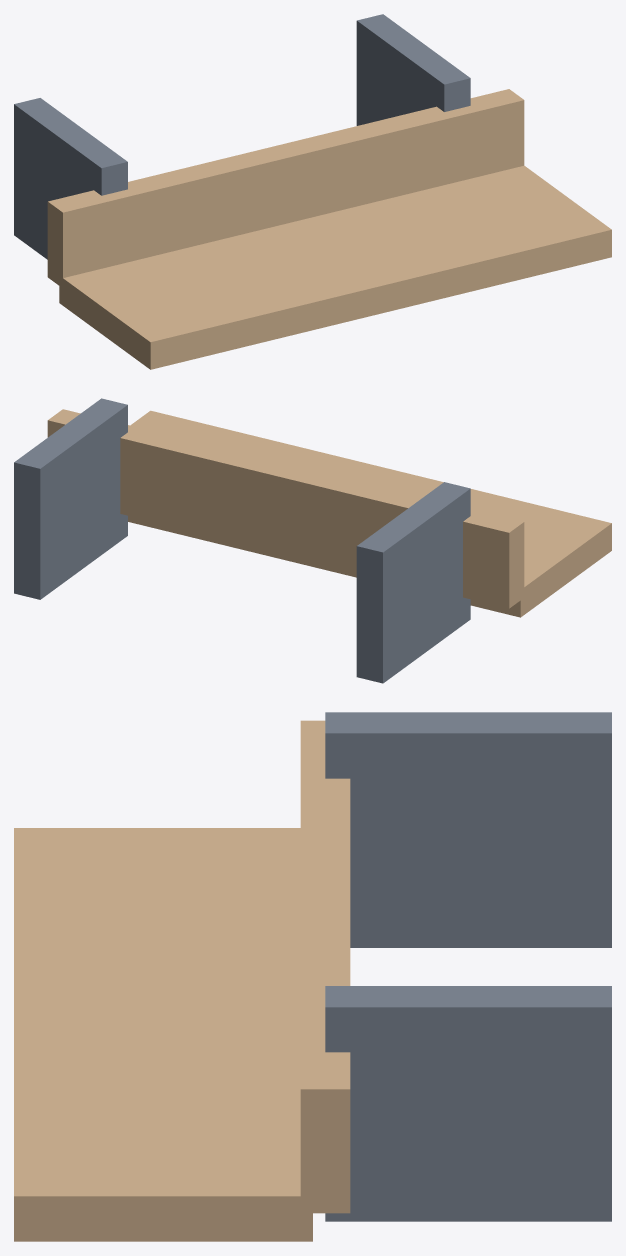
File: park_bench.glb
3 views of the same model, one above another, from view 1: azimuth 30°, elevation 25°; view 2: azimuth 150°, elevation 25°; view 3: azimuth 270°, elevation 25° (orthographic). The views are drawn at different scales.
Visible parts, largest first — view 1: back_1, seat_0, leg_l_2, leg_r_3; view 2: seat_0, leg_l_2, leg_r_3, back_1; view 3: back_1, leg_r_3, leg_l_2, seat_0.
Boxes of the visible parts, x1,y1,x2,y2 form: back_1: (59, 165, 611, 369); seat_0: (47, 89, 524, 287); leg_l_2: (14, 98, 127, 259); leg_r_3: (356, 14, 470, 125); seat_0: (47, 409, 524, 608); leg_l_2: (356, 482, 470, 683); leg_r_3: (14, 398, 127, 599); back_1: (128, 410, 611, 617); back_1: (14, 828, 312, 1241); leg_r_3: (325, 986, 611, 1221); leg_l_2: (325, 712, 611, 947); seat_0: (300, 720, 350, 1213).
Size of the model in its own units: 1.4 by 0.38 by 0.96.
